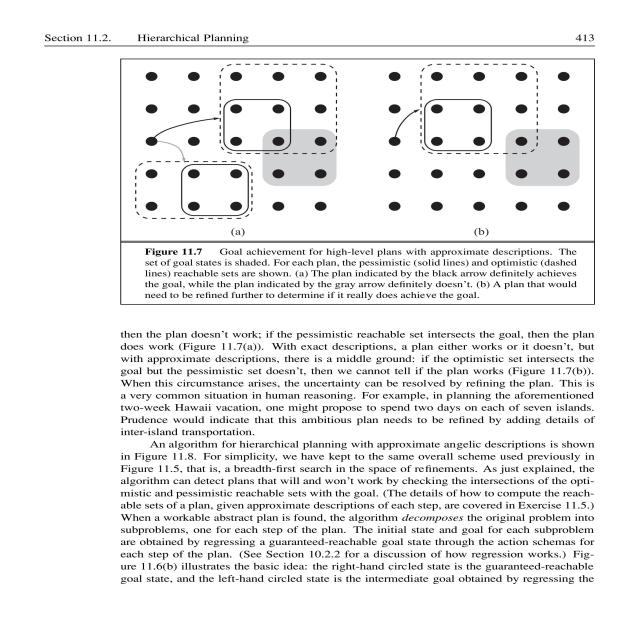diagram: (81, 53, 622, 310)
